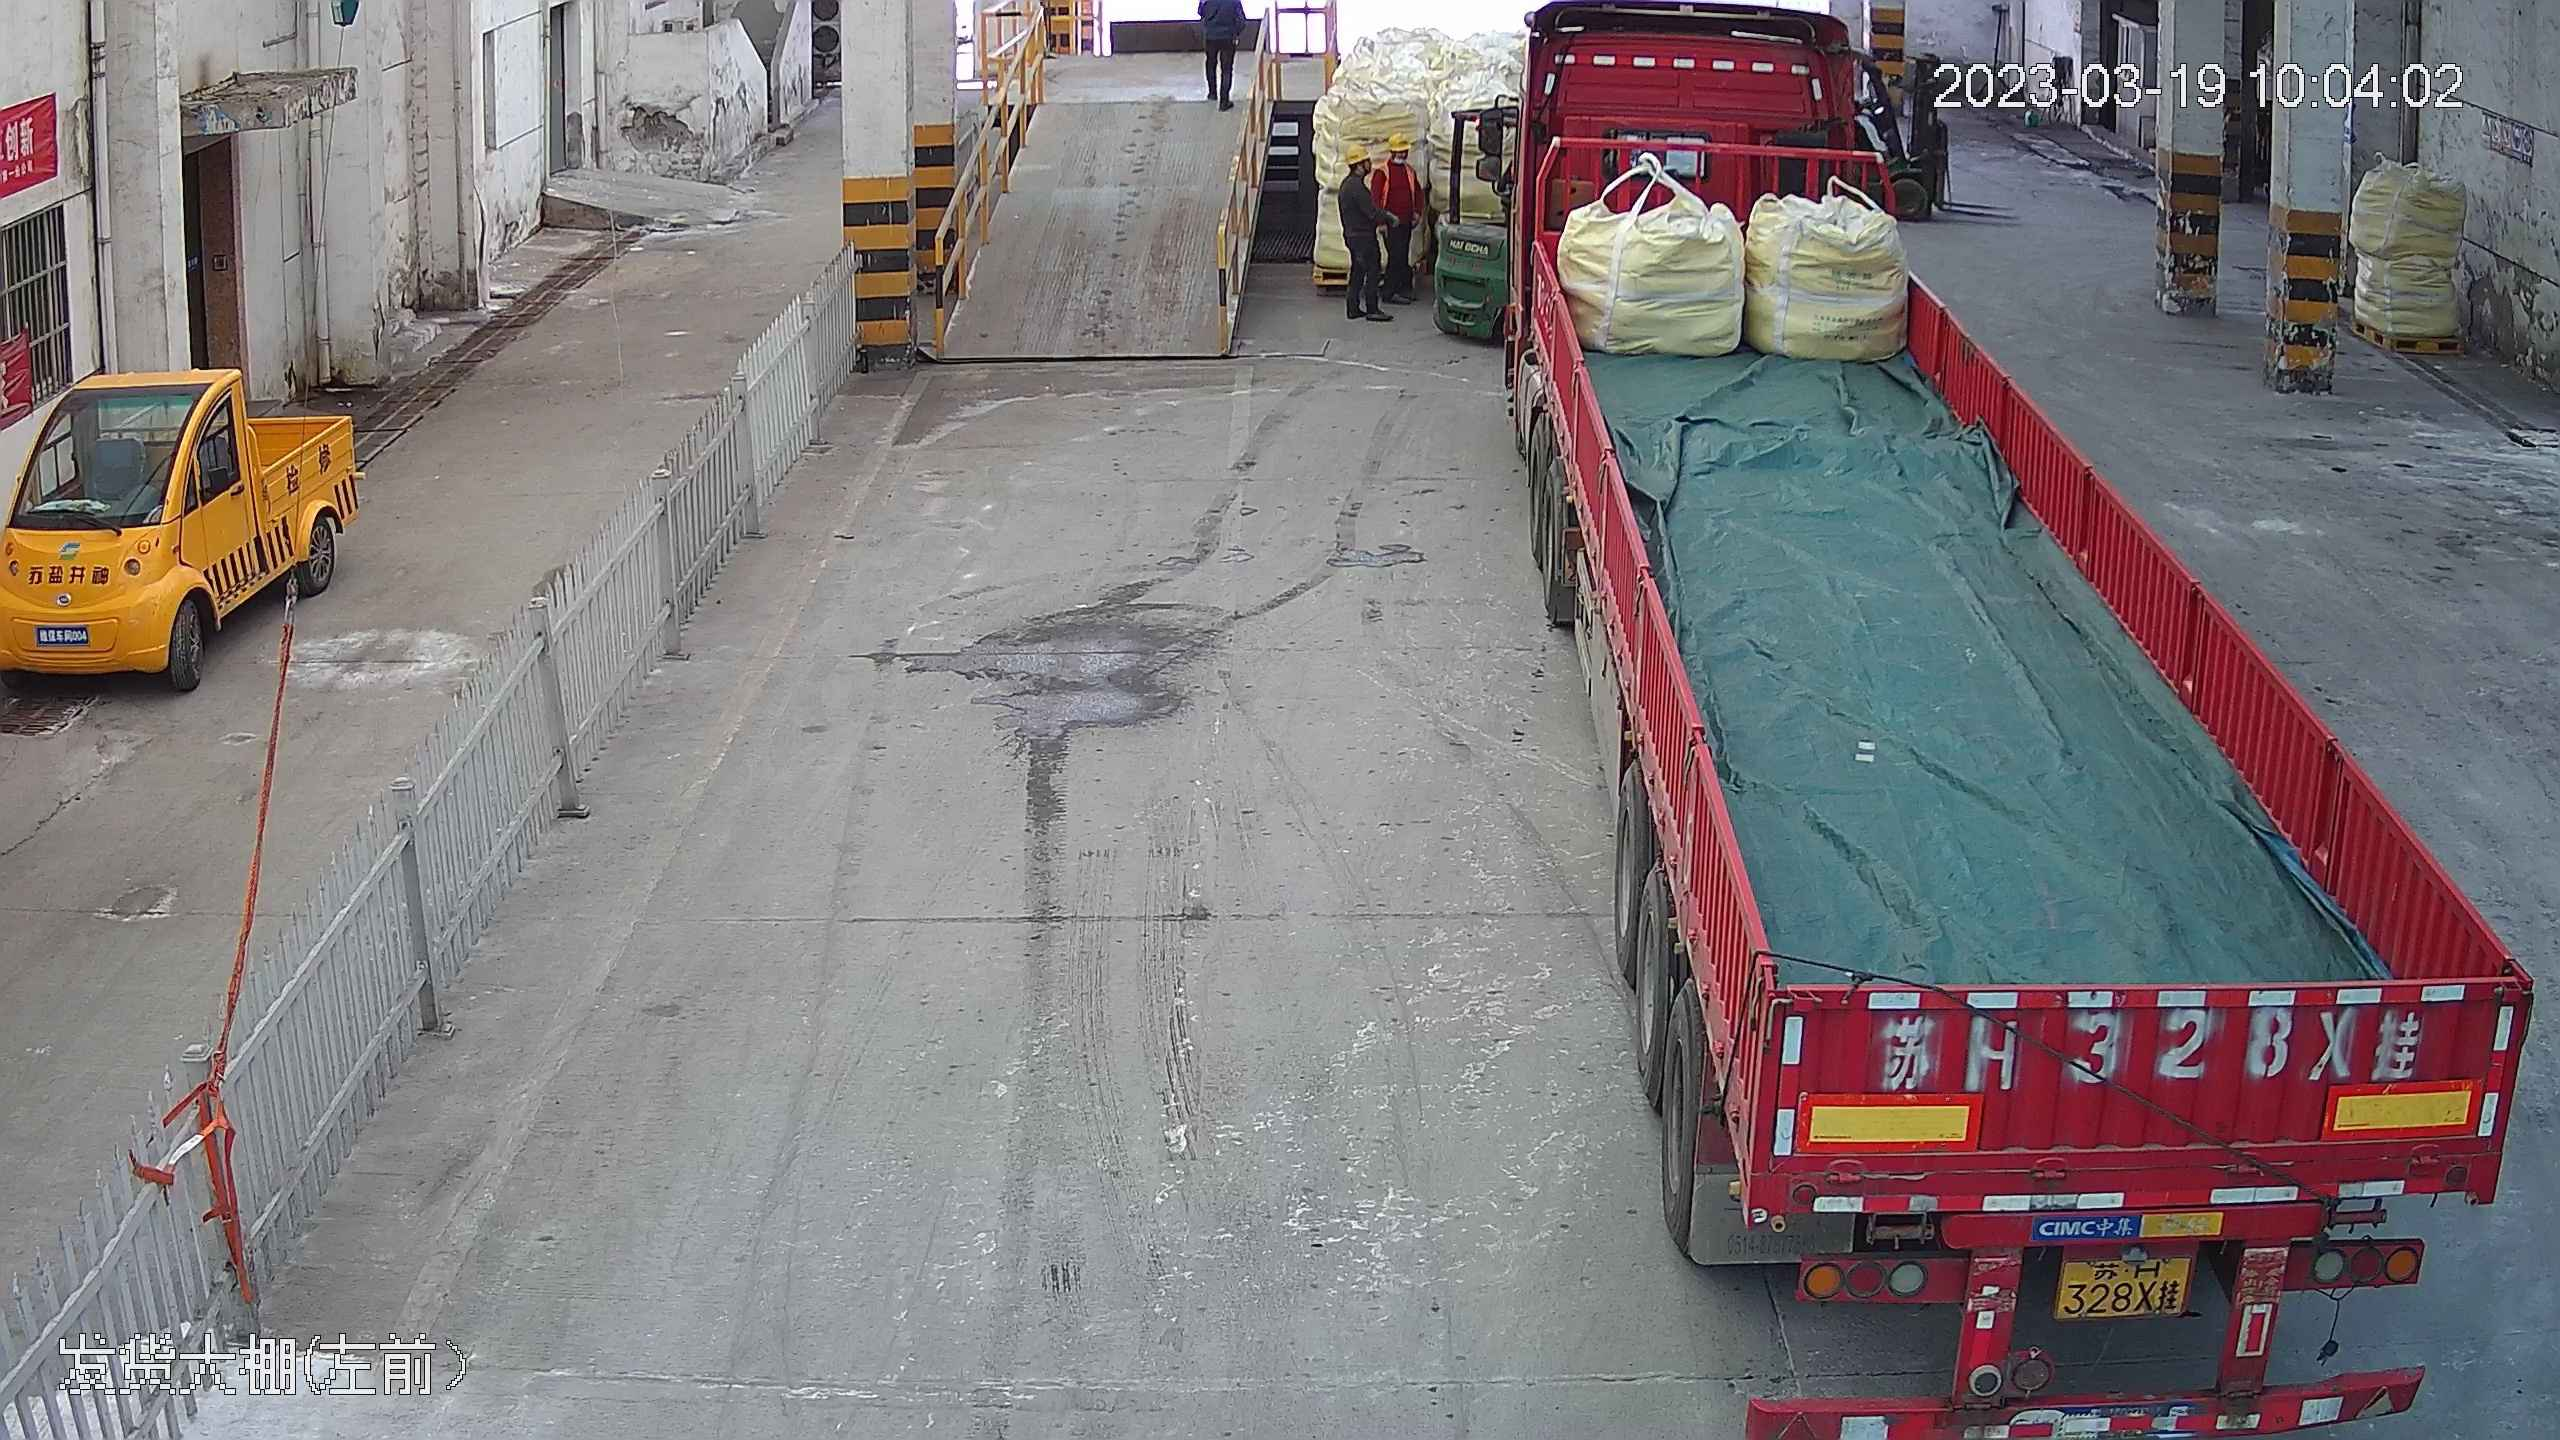head: (1379, 131, 1419, 179), (1342, 141, 1379, 192)
helmet: (1388, 128, 1410, 148), (1348, 144, 1369, 164)
people: (1380, 133, 1429, 294), (1340, 137, 1386, 307), (1197, 3, 1240, 102)
truck: (1495, 0, 2558, 1430)
